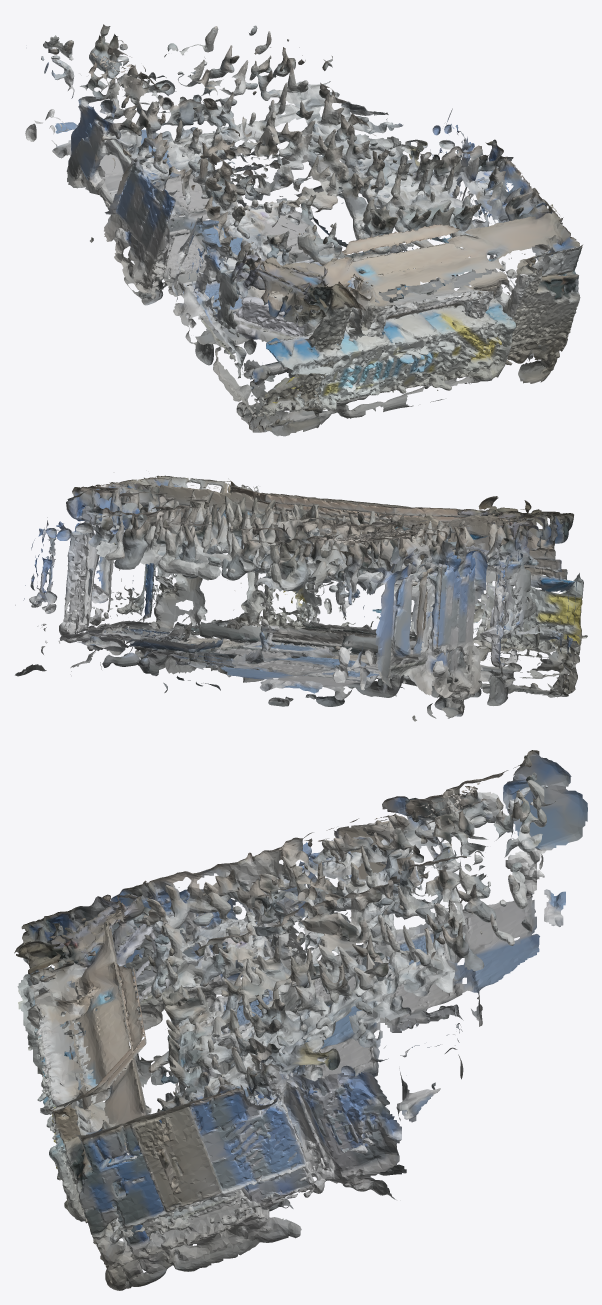
Rendered from room-01.glb.
3 renders of one model, top to bottom at view 1: azimuth 30°, elevation 25°; view 2: azimuth 150°, elevation 25°; view 3: azimuth 270°, elevation 25°, orthographic. The views are drawn at different scales.
Visible parts, largest first — view 1: geometry_0; view 2: geometry_0; view 3: geometry_0.
Part boxes in pixels (left/top/right/bottom): geometry_0: left=25, top=24, right=582, bottom=436; geometry_0: left=15, top=475, right=587, bottom=721; geometry_0: left=14, top=750, right=587, bottom=1290.
Size of the model in its own units: 10.32 by 7.91 by 11.66.
